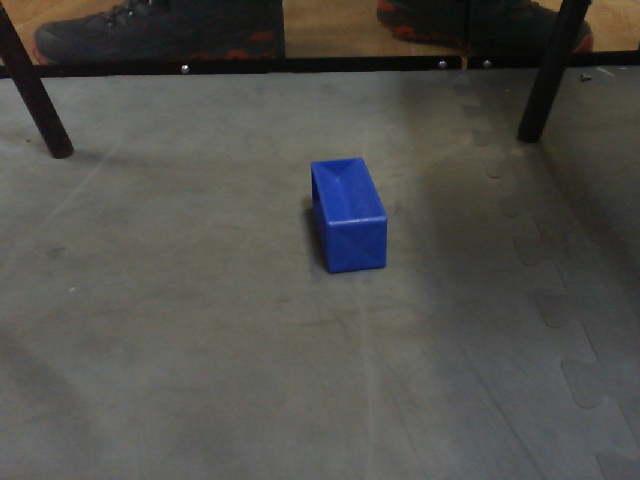BlueSample: (306, 154, 390, 275)
